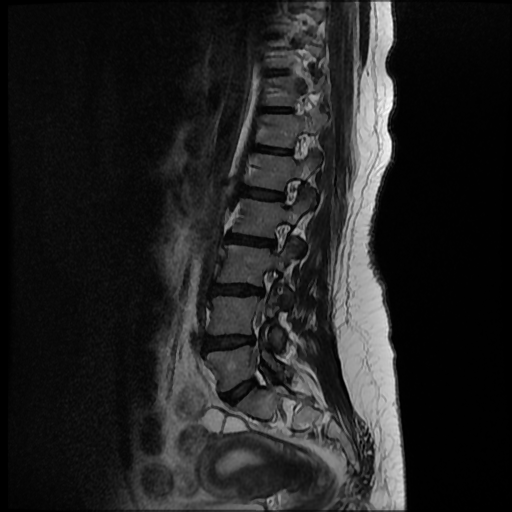RFS0: (270, 172, 309, 213), (262, 214, 297, 257)
